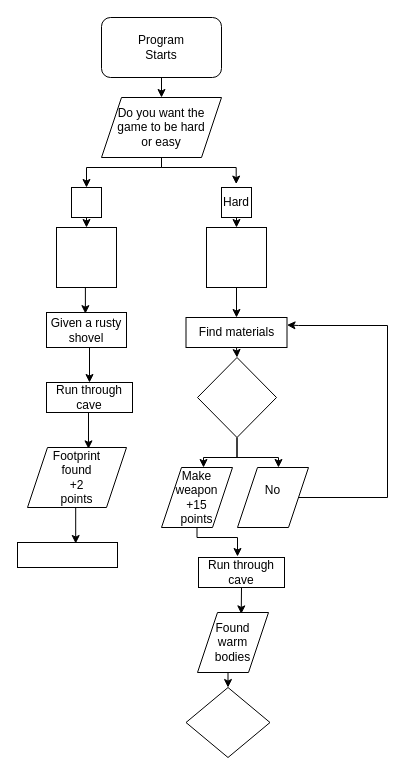
The diagram is 413 pixels wide and 775 high, and some of its shapes have lost their labels. Each missing label, with the centre of its shape:
Can you find material: the point at 236,397
Easy: the point at 86,202
Head start 10 points: the point at 86,257
Starts with 0 points: the point at 236,257
Walk further: the point at 227,722
